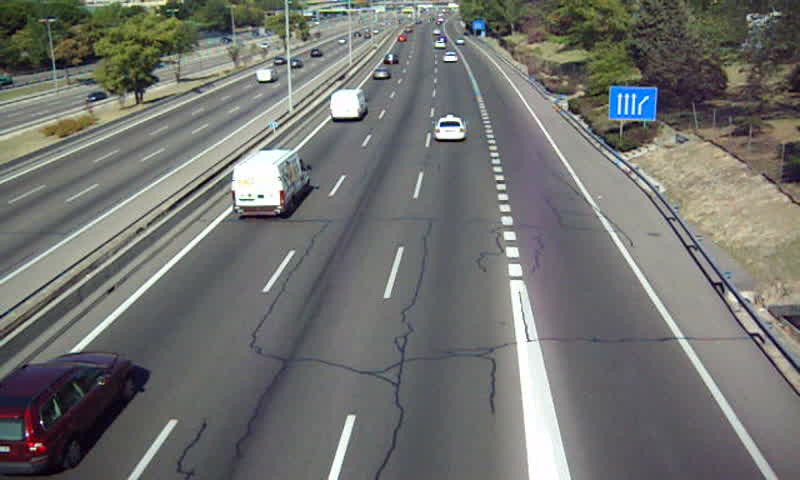car: (1, 353, 133, 472), (434, 115, 465, 140), (371, 68, 390, 82), (442, 52, 459, 65), (383, 52, 398, 66)
van: (231, 149, 313, 215), (330, 90, 366, 121)
